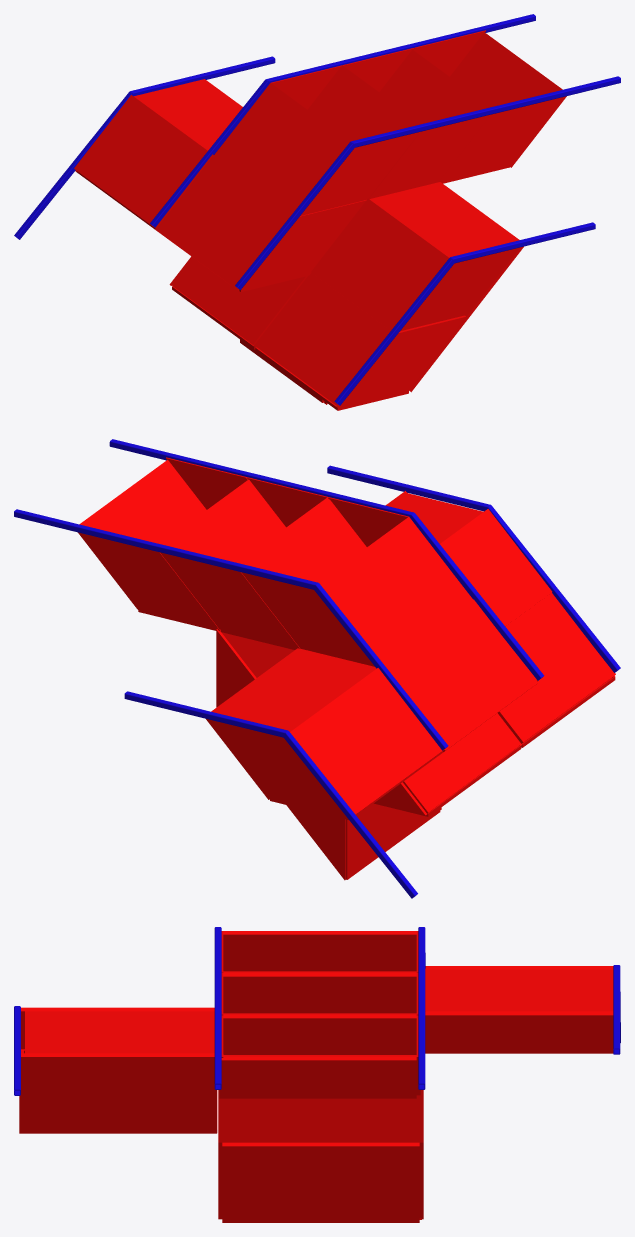
3 views of the same model, one above another, from view 1: azimuth 30°, elevation 25°; view 2: azimuth 150°, elevation 25°; view 3: azimuth 270°, elevation 25° (orthographic). The views are drawn at different scales.
Parts seen in each view (by area): view 1: Obj_000002; view 2: Obj_000002; view 3: Obj_000002.
Boxes of the visible parts, bbox=[...] form: Obj_000002: bbox=[14, 14, 620, 410]; Obj_000002: bbox=[14, 439, 620, 898]; Obj_000002: bbox=[14, 927, 620, 1222].
Size of the model in its own units: 3.07 by 1.73 by 3.08.
